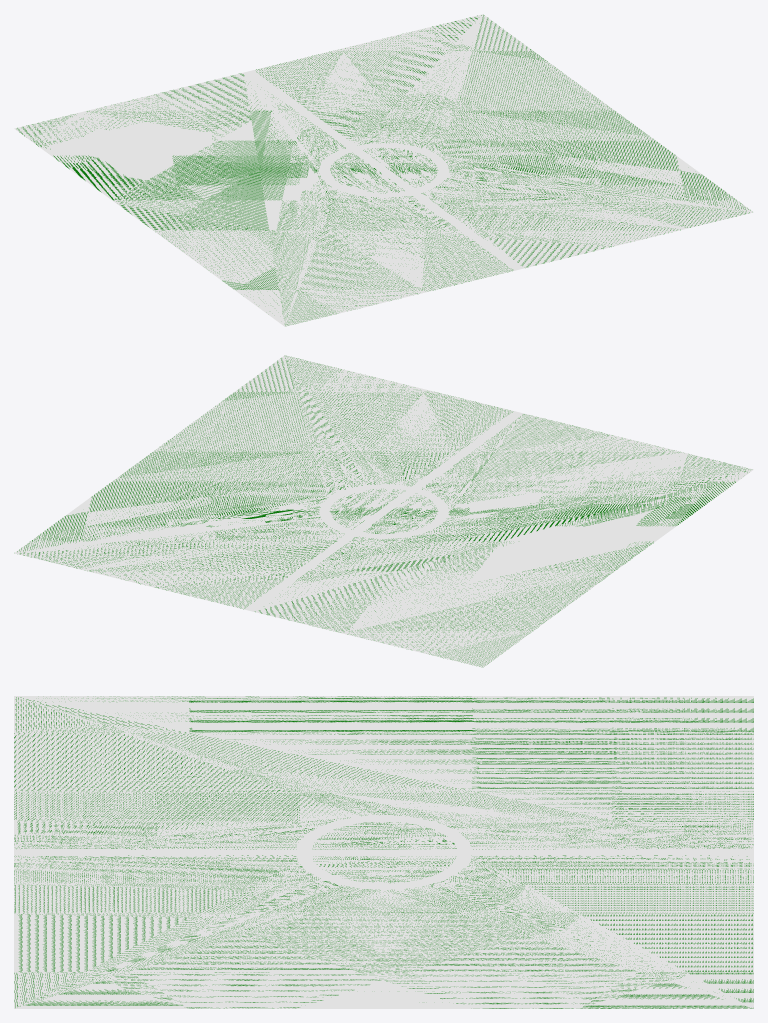
File: StadiumGround.dae
3 renders of one model, top to bottom at view 1: azimuth 30°, elevation 25°; view 2: azimuth 150°, elevation 25°; view 3: azimuth 270°, elevation 25°, orthographic. The views are drawn at different scales.
Parts seen in each view (by area): view 1: SketchUp (×5); view 2: SketchUp (×5); view 3: SketchUp (×5).
Boxes of the visible parts, <box> form: SketchUp (×5): <box>14,14,753,326</box>; SketchUp (×5): <box>14,355,753,667</box>; SketchUp (×5): <box>14,696,753,1008</box>.
Bounding box in the file's own units: 197 × 197 × 0.
